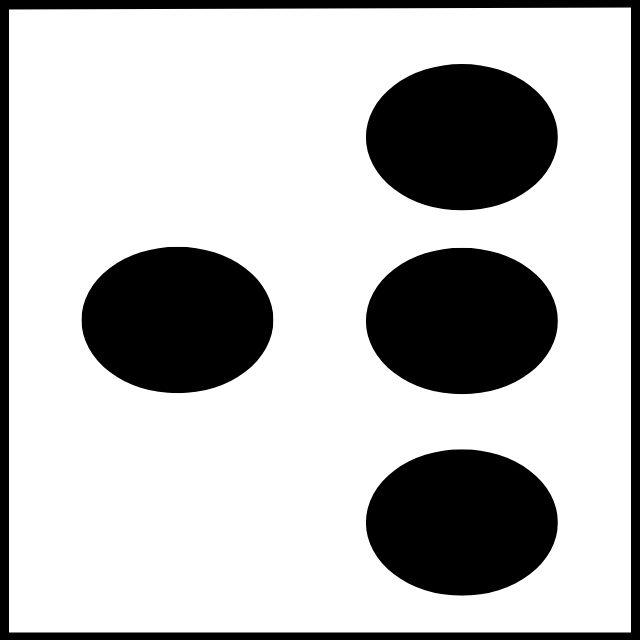wala: (83, 61, 561, 595)
